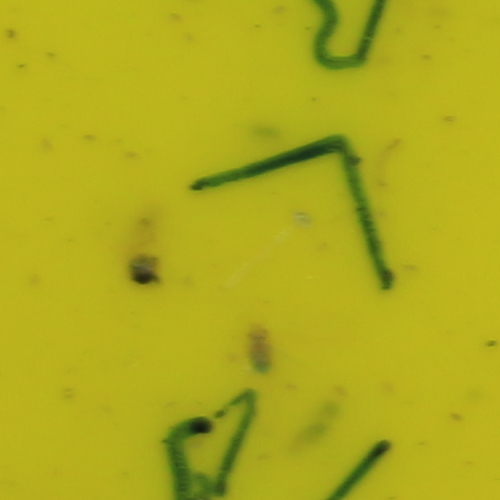Glycaspis: (245, 323, 277, 377)
